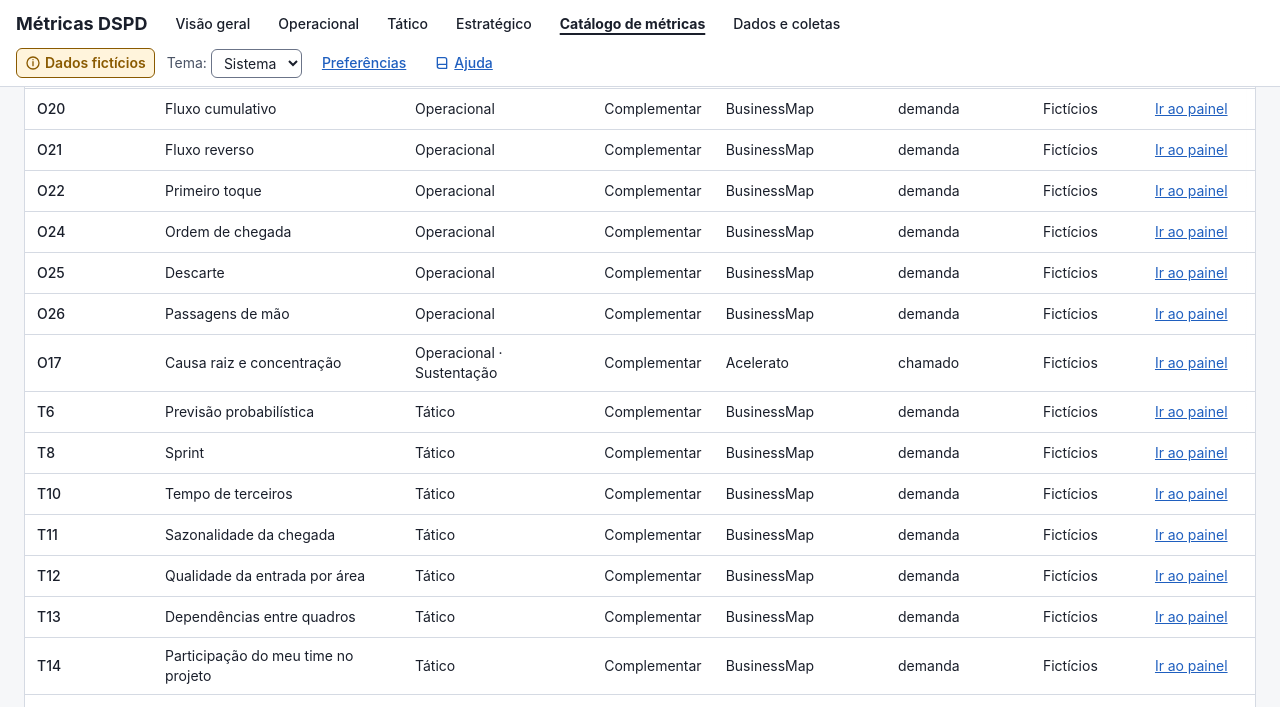
Catálogo de métricas (/metricas) › o link do catálogo leva ao painel com a seção aberta no cartão
This screenshot has width=1280, height=707.
(page scrolled)
Click the link named "Ir ao painel de T6" at (1191, 412), box [1155,400,1228,424]
(page scrolled)
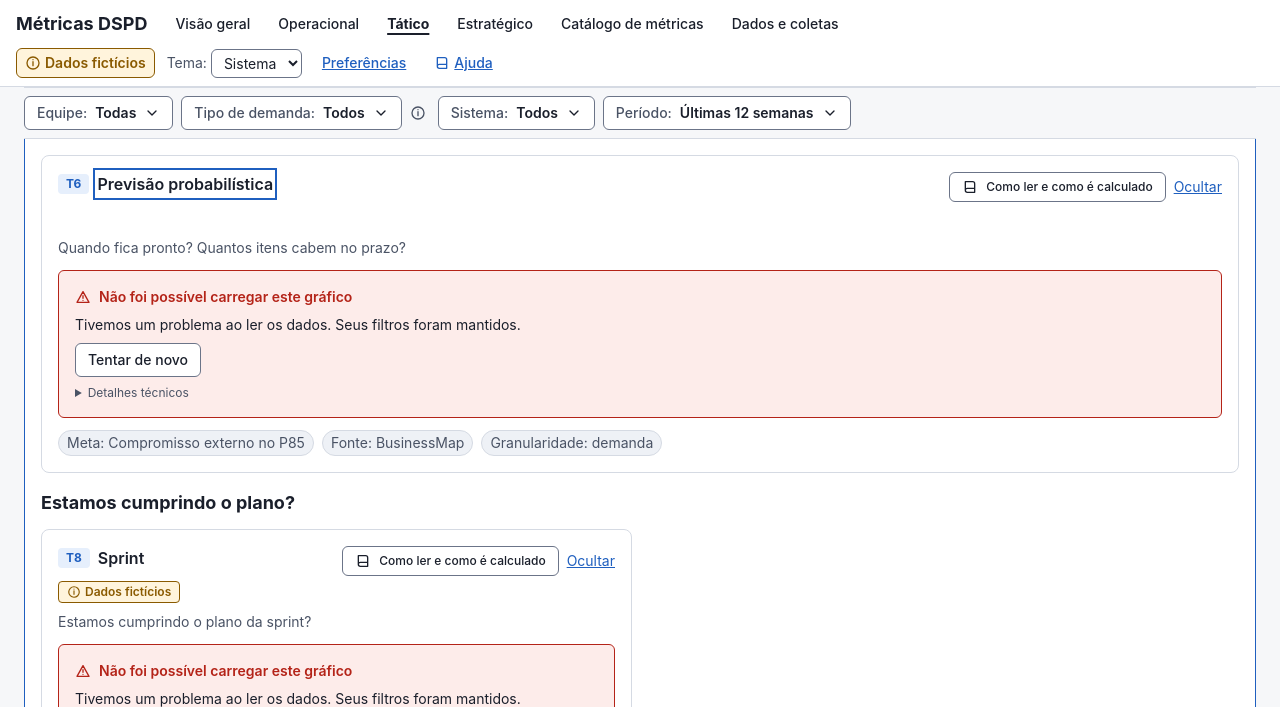
Expected: the element with test id "metrica-T6" is shown, [41,155,1239,473]
